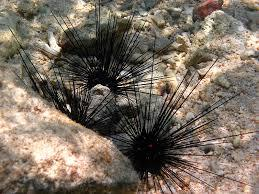urchin: (100, 74, 234, 187), (55, 0, 166, 94)
